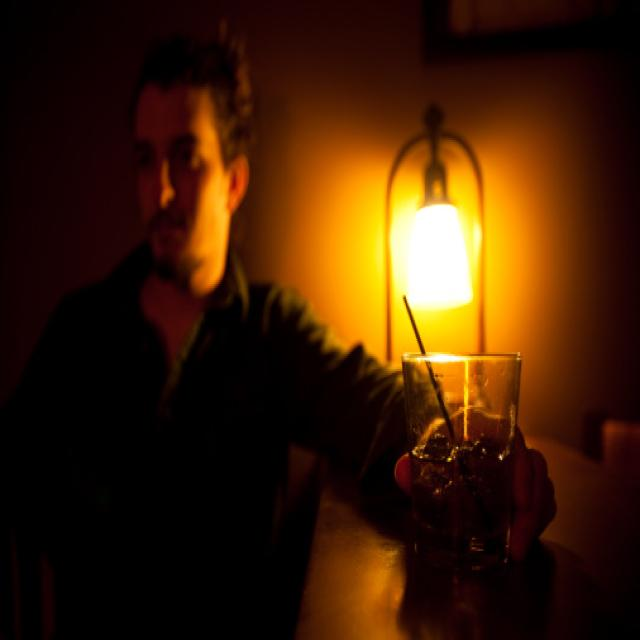Cup: (391, 331, 567, 632)
People: (59, 26, 334, 605)
Table: (307, 308, 639, 640)
